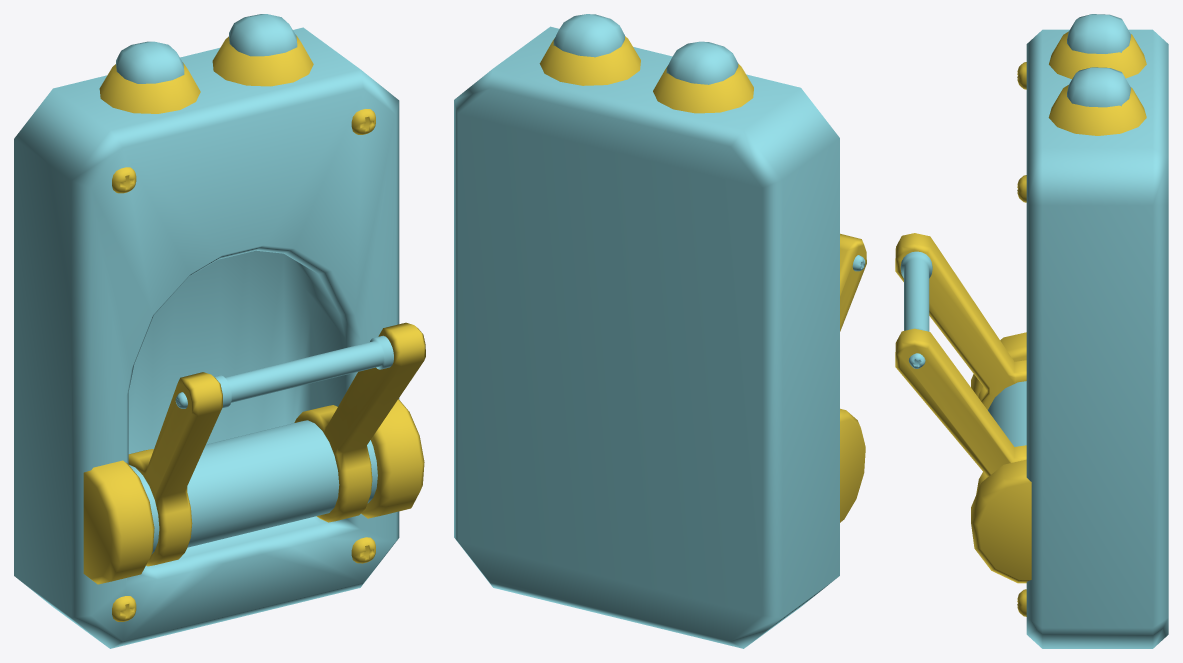
File: lever_0.1.fbx
3 views of the same model, side by side, from view 1: azimuth 30°, elevation 25°; view 2: azimuth 150°, elevation 25°; view 3: azimuth 270°, elevation 25° (orthographic). The views are drawn at different scales.
Parts seen in each view (by area): view 1: box_palanca, palanca_animation; view 2: box_palanca, palanca_animation; view 3: box_palanca, palanca_animation.
Part boxes in pixels (x1=…): box_palanca: x1=14, y1=14, x2=424, y2=648; palanca_animation: x1=128, y1=322, x2=425, y2=566; box_palanca: x1=454, y1=14, x2=865, y2=648; palanca_animation: x1=840, y1=233, x2=866, y2=331; box_palanca: x1=971, y1=14, x2=1168, y2=648; palanca_animation: x1=895, y1=233, x2=1026, y2=494.
Bounding box in the file's own units: 1 × 1.64 × 0.7461.
